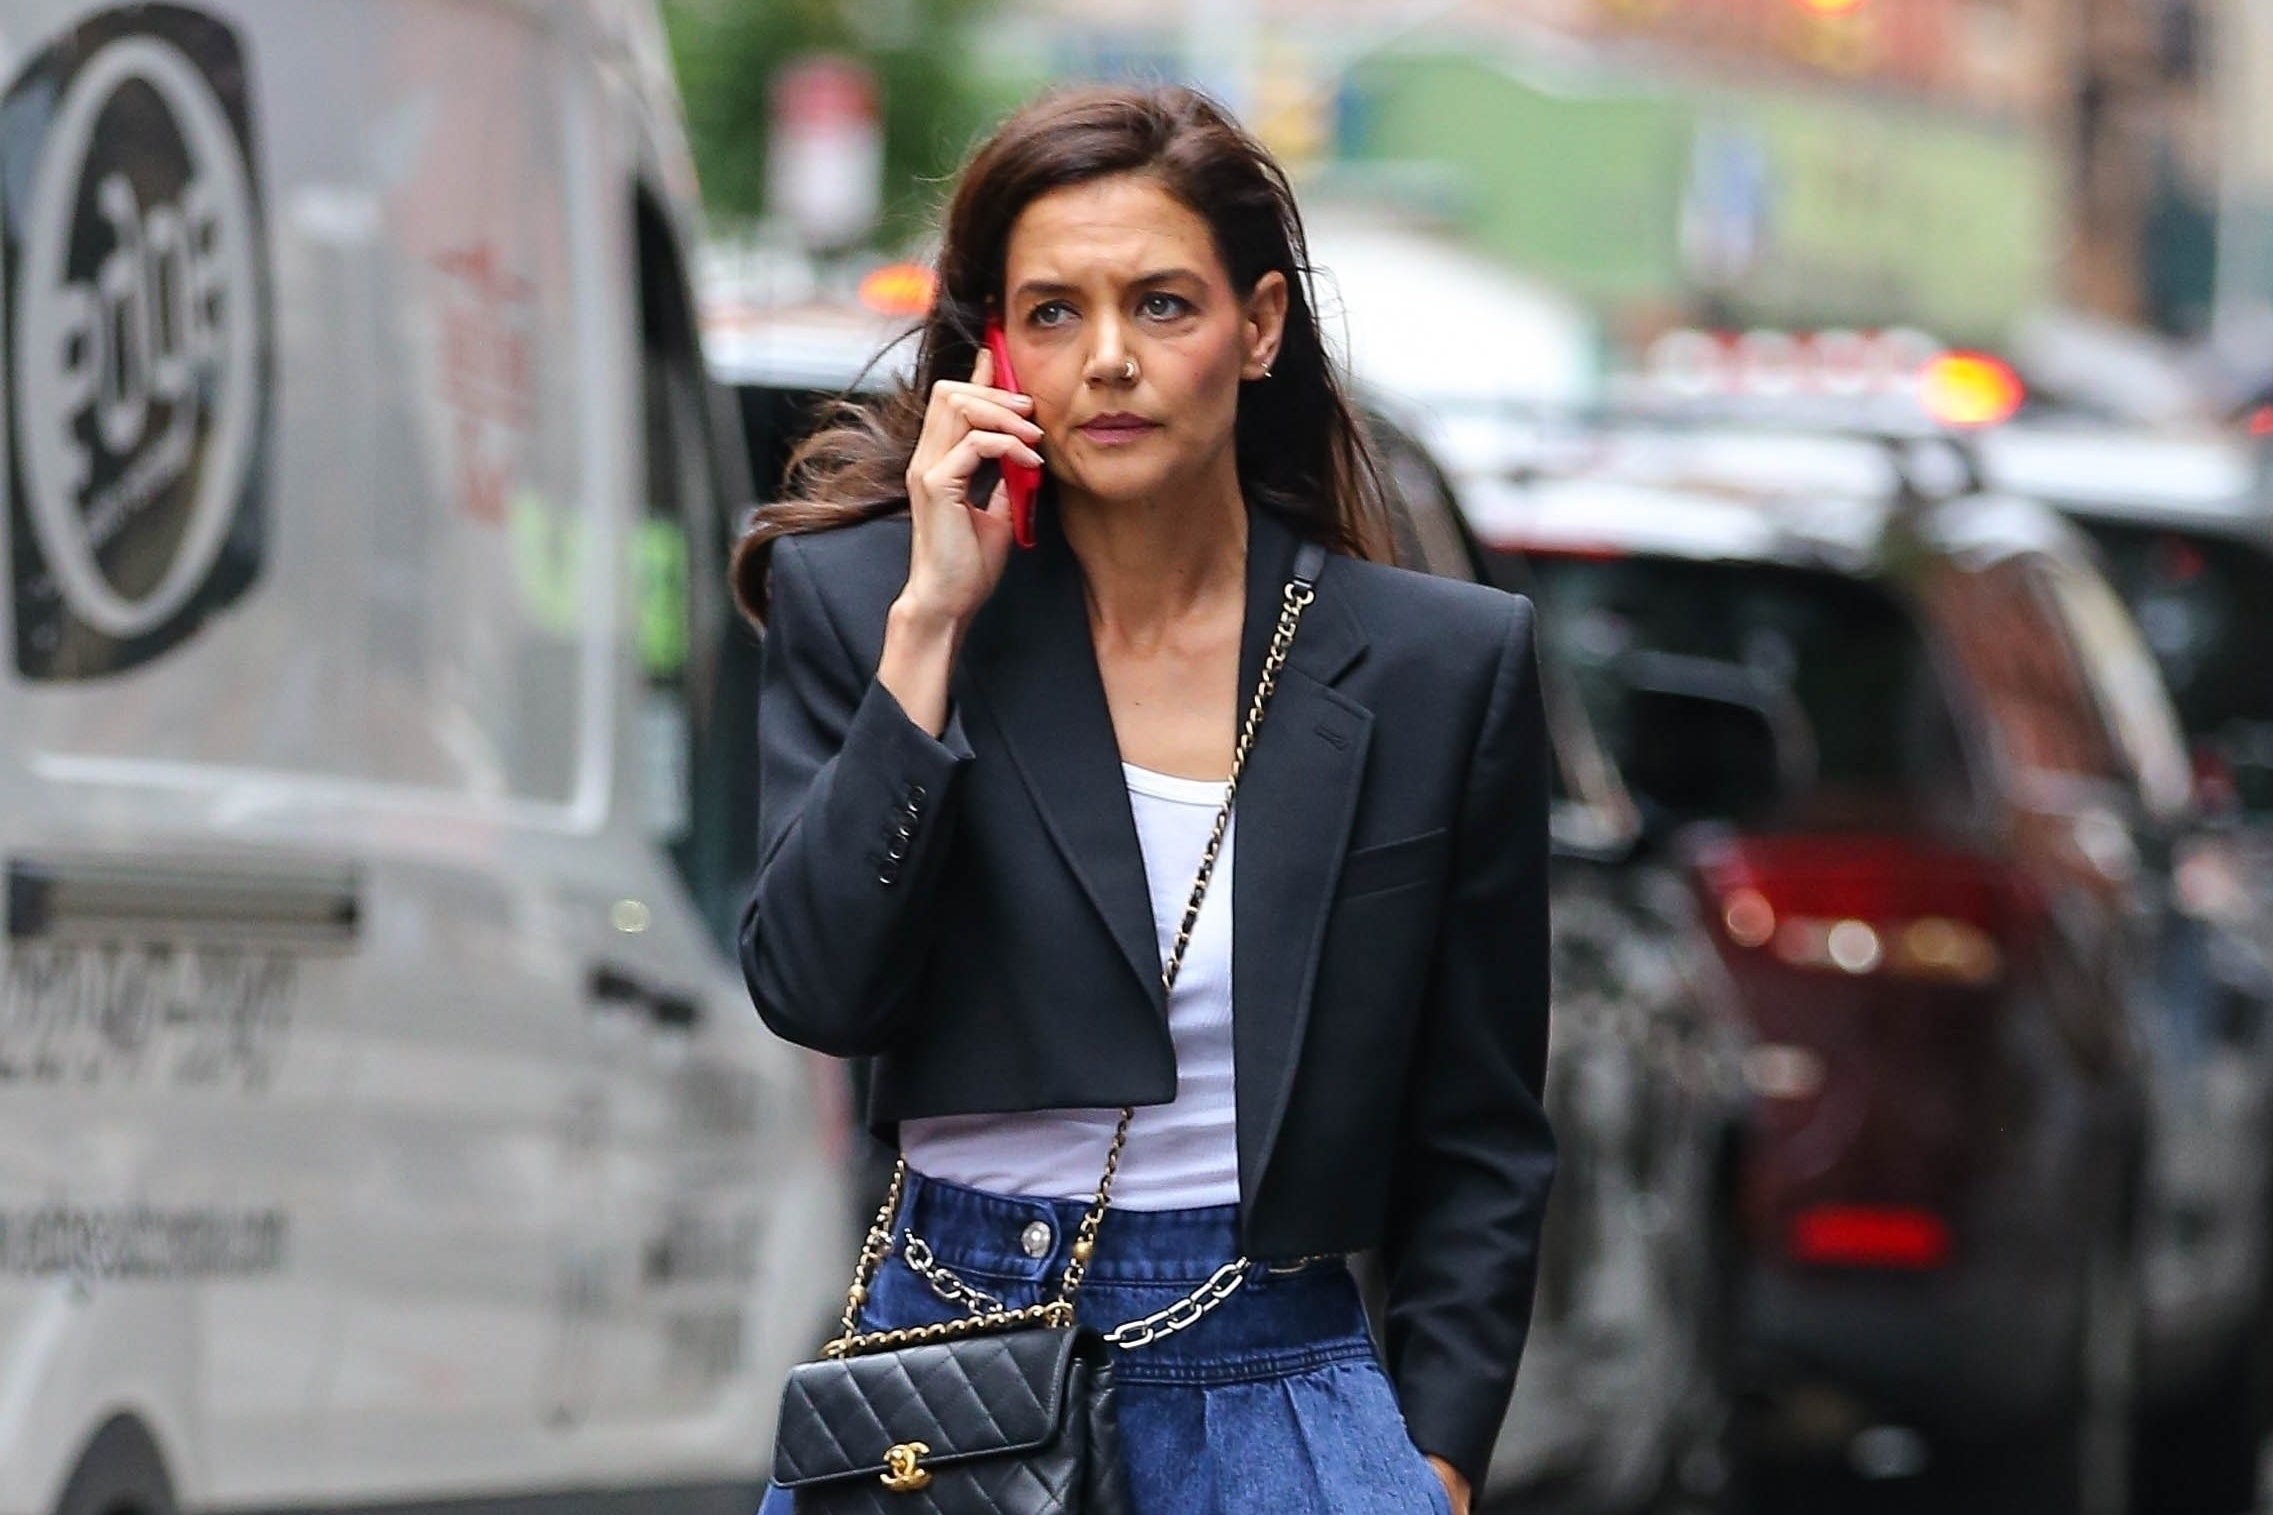channel: (754, 1327, 1127, 1515), (818, 1231, 901, 1408), (877, 1429, 962, 1510)
